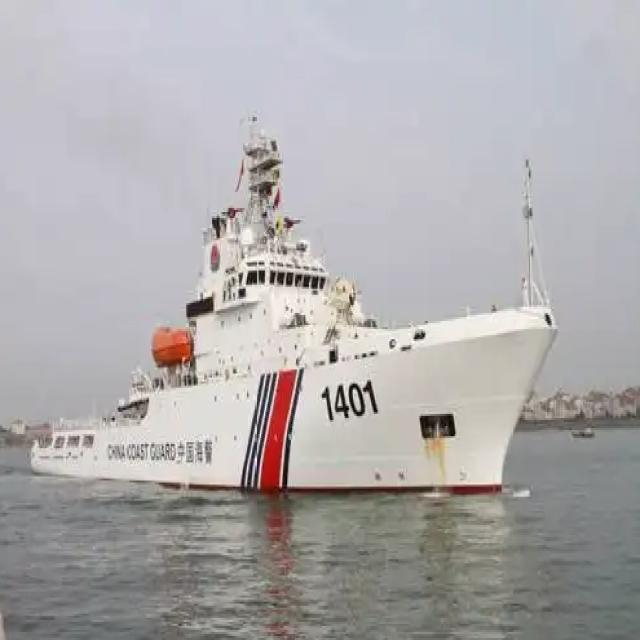fishing boat: (34, 124, 551, 496)
